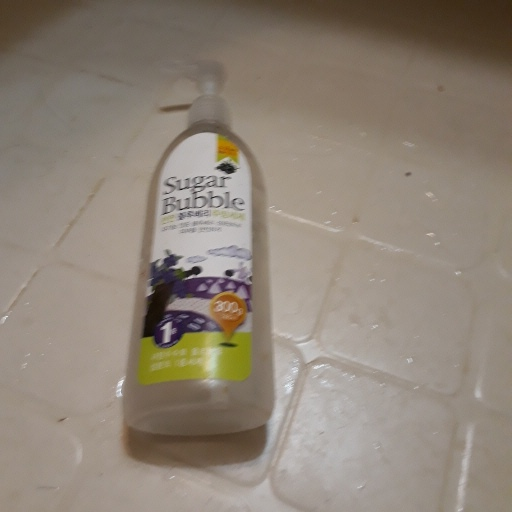Plastic_3: (120, 62, 275, 440)
